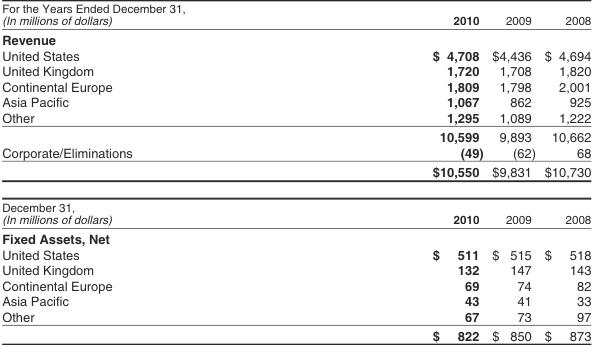table: (1, 1, 590, 343)
table column: (1, 1, 308, 343), (308, 1, 486, 343), (486, 1, 539, 343), (539, 1, 590, 343)
table column header: (1, 1, 590, 29)
table projected row header: (1, 227, 590, 246), (1, 29, 590, 47)
table row: (1, 189, 590, 227), (1, 1, 590, 29), (1, 161, 590, 189), (1, 227, 590, 246), (1, 29, 590, 47), (1, 126, 590, 144), (1, 325, 590, 343), (1, 109, 590, 126), (1, 144, 590, 161), (1, 308, 590, 325), (1, 62, 590, 78), (1, 93, 590, 109), (1, 261, 590, 277), (1, 292, 590, 308), (1, 47, 590, 62), (1, 78, 590, 93), (1, 246, 590, 261), (1, 277, 590, 292)
